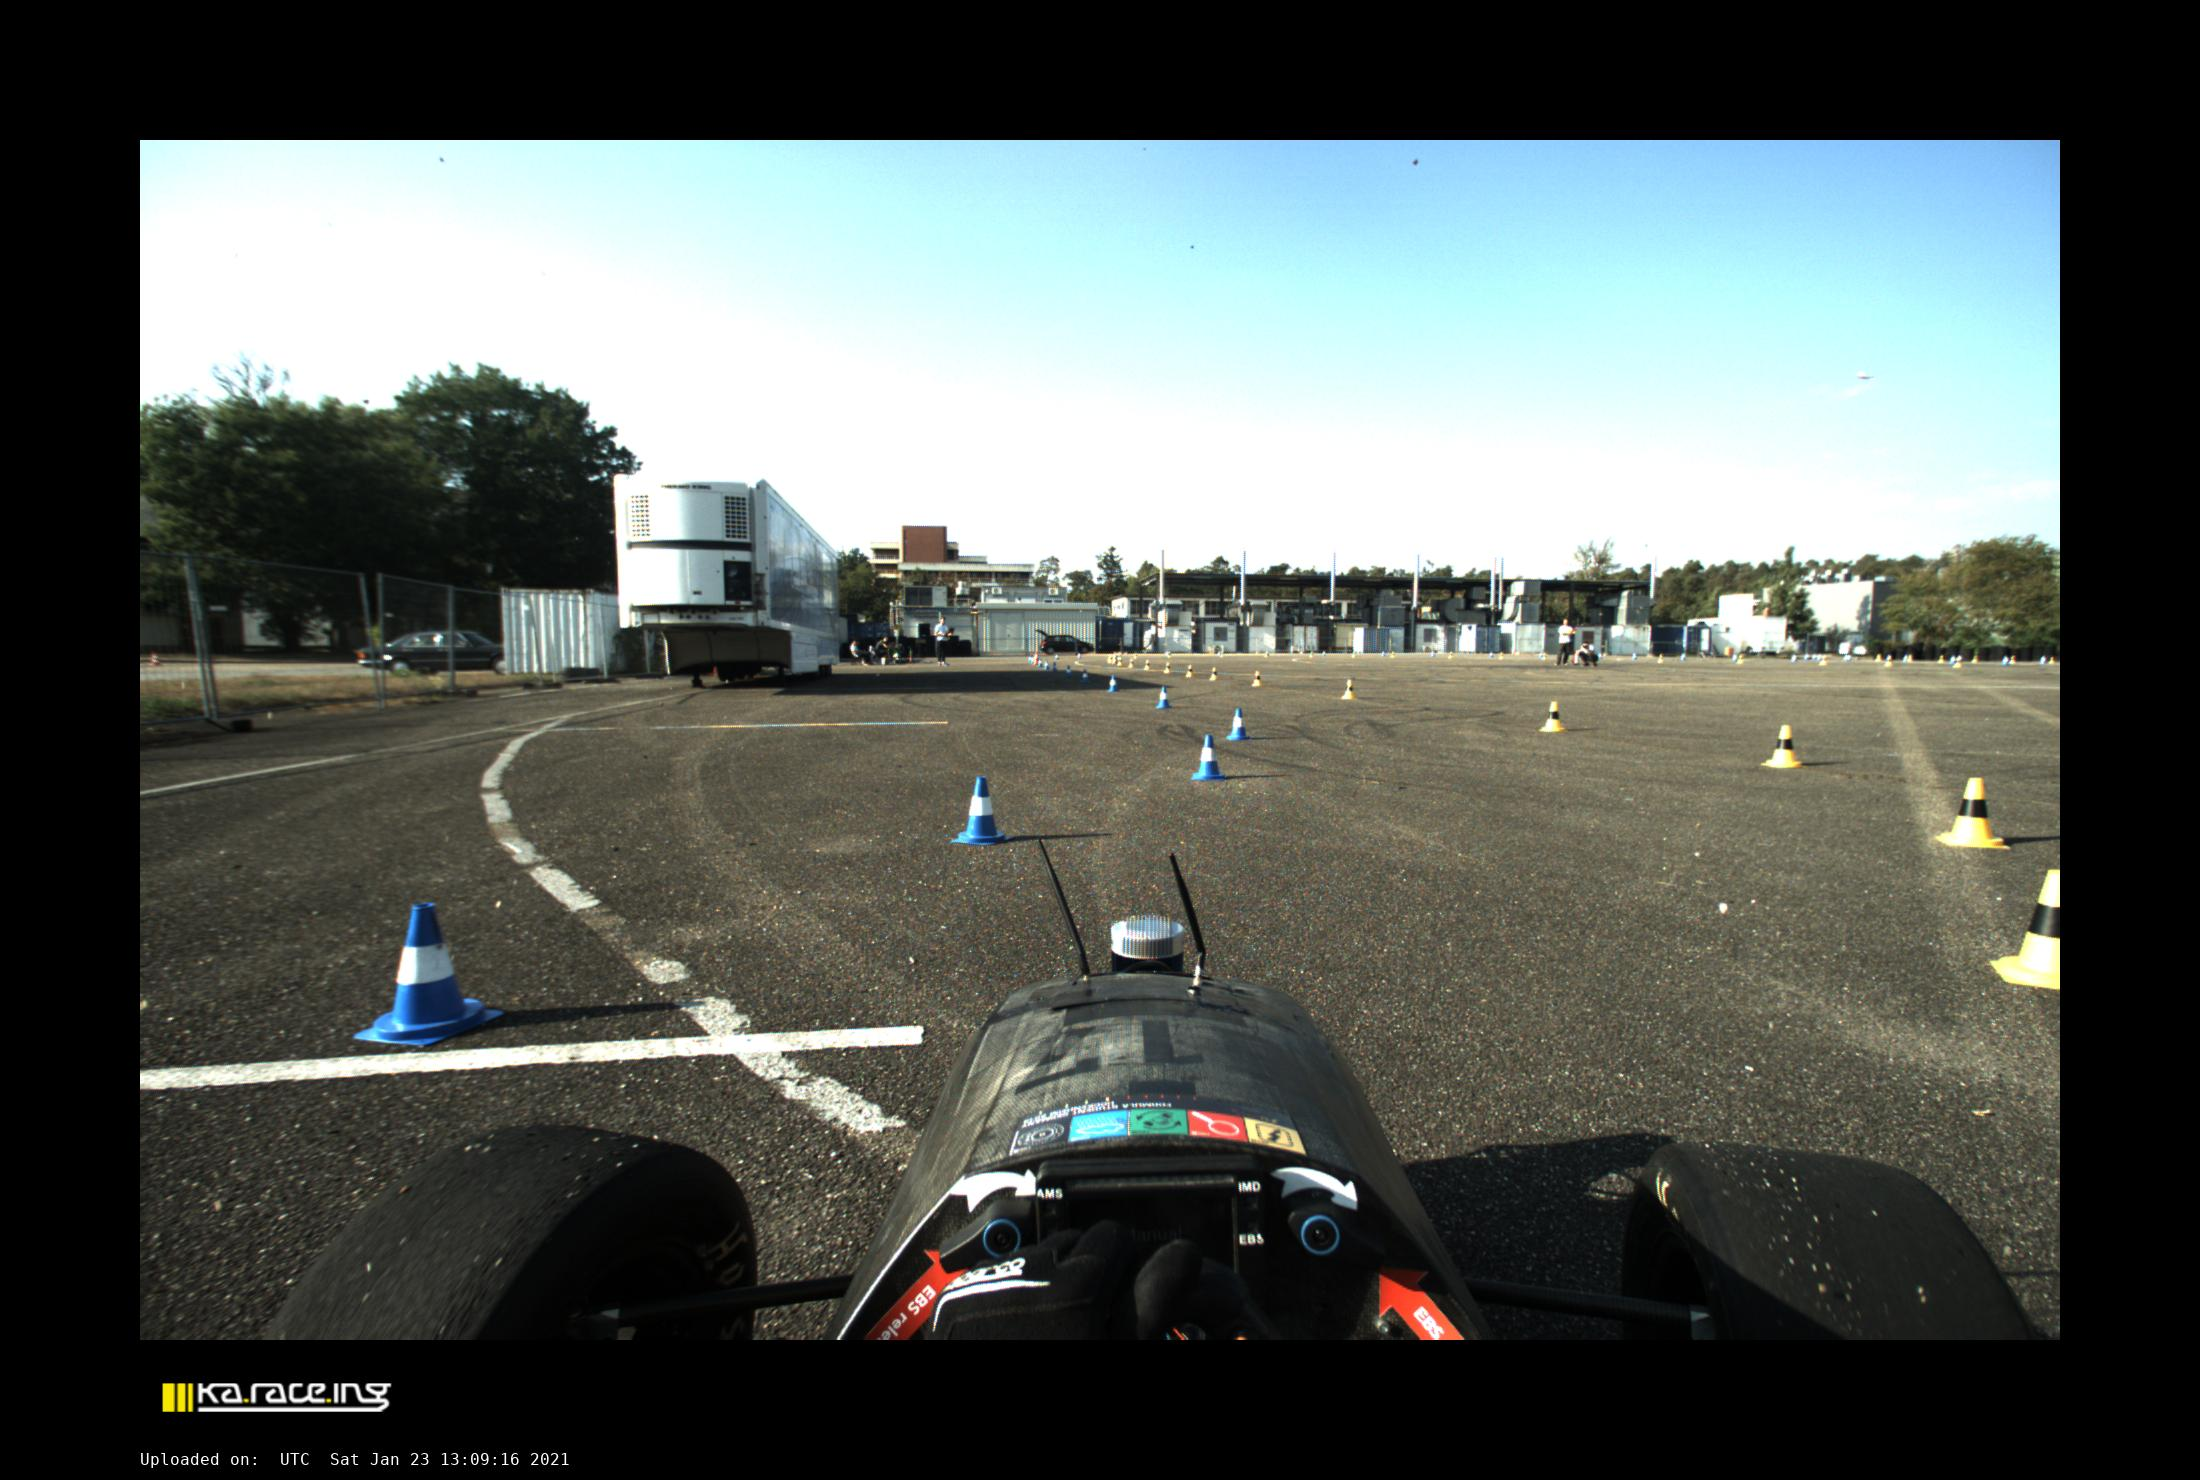blue_cone: (352, 904, 505, 1047), (951, 776, 1012, 846), (1191, 735, 1226, 780), (1226, 709, 1252, 740), (1156, 685, 1173, 709), (1107, 676, 1120, 692), (1080, 669, 1088, 682), (1050, 661, 1059, 672), (1065, 666, 1072, 677), (2002, 656, 2008, 666), (1044, 659, 1049, 671), (2040, 656, 2046, 664), (1949, 656, 1956, 664), (1790, 654, 1797, 662), (1804, 652, 1810, 661), (1680, 652, 1686, 661), (1037, 657, 1042, 667), (1903, 652, 1908, 662), (1957, 656, 1964, 662), (1845, 654, 1852, 661), (1731, 654, 1738, 661), (1817, 652, 1822, 661), (1632, 652, 1637, 661), (1812, 652, 1817, 659), (1599, 652, 1604, 659), (1490, 651, 1495, 657), (1430, 651, 1435, 657), (1075, 652, 1080, 657), (1539, 652, 1544, 657), (1381, 651, 1386, 656), (1321, 651, 1326, 656), (1029, 656, 1032, 662), (1055, 654, 1059, 661), (1886, 654, 1889, 661)
large_orange_cone: (1032, 652, 1037, 666)
yellow_cone: (1990, 870, 2060, 989), (1936, 778, 2012, 851), (1761, 727, 1802, 768), (1539, 702, 1566, 732), (1341, 679, 1358, 699), (1250, 671, 1264, 685), (1209, 667, 1219, 681), (1184, 664, 1192, 677), (1163, 661, 1171, 674), (1885, 656, 1893, 666), (1818, 657, 1827, 666), (1736, 656, 1744, 664), (1143, 659, 1150, 669), (1952, 661, 1962, 667), (1657, 654, 1663, 664), (1128, 659, 1135, 667), (1937, 656, 1946, 662), (1875, 652, 1881, 661), (1447, 651, 1453, 659), (1972, 656, 1979, 662), (1389, 651, 1396, 657), (1117, 657, 1121, 666), (2050, 656, 2055, 664), (2012, 656, 2017, 664), (1908, 654, 1913, 662), (1498, 652, 1503, 661), (1112, 656, 1117, 662), (1264, 651, 1268, 657), (1108, 654, 1112, 662), (1543, 652, 1546, 661), (1168, 652, 1173, 657), (1133, 652, 1136, 659), (1351, 651, 1354, 657), (1310, 651, 1313, 657), (1221, 651, 1224, 657)
